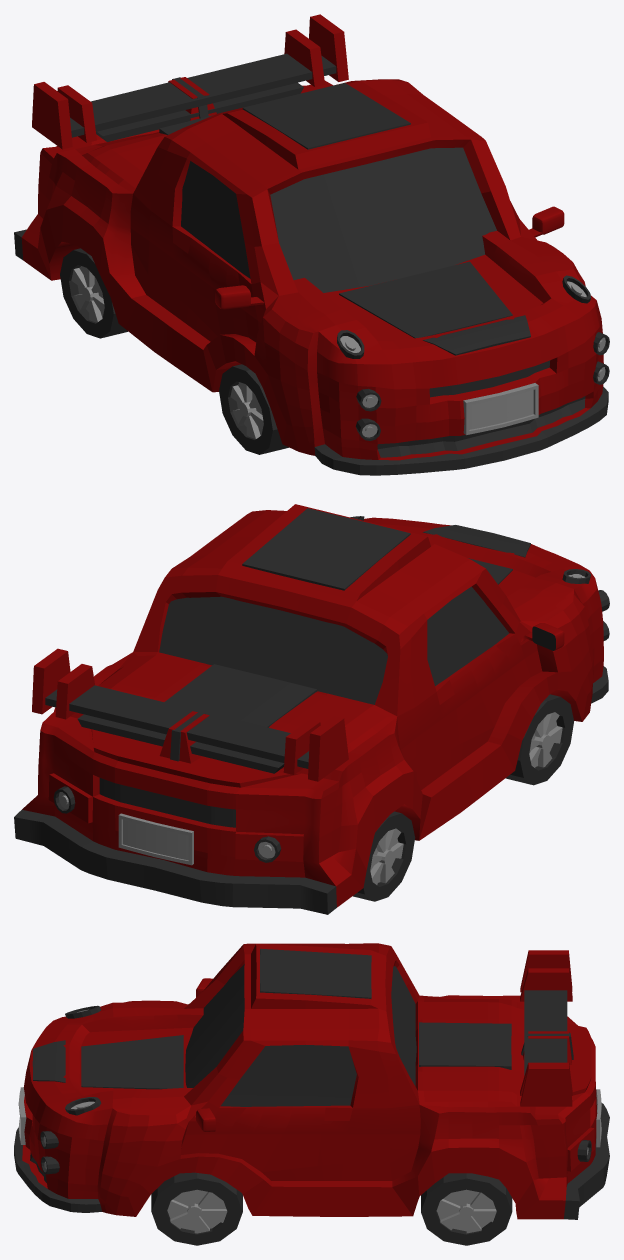
File: player_car 1.fbx
3 renders of one model, top to bottom at view 1: azimuth 30°, elevation 25°; view 2: azimuth 150°, elevation 25°; view 3: azimuth 270°, elevation 25°, orthographic. The views are drawn at different scales.
Visible parts, largest first — view 1: car_base, glass_front, pCube7, pCube1, pCube9, pPipe5 (×2), glass_right, pCube2, front_plate, pCube3, pCube6, H (+5 smaller); view 2: car_base, glass_behind, pCube9, pCube1, pCube10, pPipe5 (×2), glass_right, pCube2, back_plate, pCube6, pCube3, pCylinder12 (×2) (+4 smaller); view 3: car_base, pPipe5 (×2), glass_right, pCube7, pCube9, pCube10, glass_front, pCylinder12 (×2), pCube1, pCube2, glass_behind, pCube3 (+3 smaller).
Boxes of the visible parts, left/top/right/bottom form: car_base: left=14, top=79, right=608, bottom=475; glass_front: left=270, top=147, right=496, bottom=292; pCube7: left=339, top=261, right=512, bottom=338; pCube1: left=70, top=53, right=336, bottom=137; pCube9: left=242, top=83, right=410, bottom=149; pPipe5 (×2): left=60, top=248, right=288, bottom=454; glass_right: left=181, top=161, right=250, bottom=278; pCube2: left=32, top=14, right=348, bottom=149; front_plate: left=463, top=383, right=538, bottom=435; pCube3: left=57, top=29, right=324, bottom=142; pCube6: left=96, top=82, right=303, bottom=141; H: left=423, top=315, right=530, bottom=355; car_base: left=14, top=504, right=608, bottom=914; glass_behind: left=159, top=596, right=387, bottom=704; pCube9: left=242, top=508, right=410, bottom=590; pCube1: left=45, top=685, right=308, bottom=768; pCube10: left=164, top=664, right=317, bottom=727; pPipe5 (×2): left=353, top=694, right=573, bottom=901; glass_right: left=427, top=586, right=509, bottom=686; pCube2: left=32, top=648, right=348, bottom=781; back_plate: left=118, top=813, right=193, bottom=865; pCube6: left=77, top=714, right=284, bottom=773; pCube3: left=55, top=664, right=320, bottom=774; pCylinder12 (×2): left=370, top=712, right=562, bottom=884; car_base: left=14, top=943, right=609, bottom=1219; pPipe5 (×2): left=151, top=1172, right=512, bottom=1245; glass_right: left=221, top=1045, right=356, bottom=1106; pCube7: left=81, top=1035, right=183, bottom=1089; pCube9: left=260, top=948, right=371, bottom=998; pCube10: left=419, top=1022, right=511, bottom=1069; glass_front: left=185, top=964, right=244, bottom=1087; pCylinder12 (×2): left=167, top=1189, right=496, bottom=1233; pCube1: left=524, top=980, right=567, bottom=1075; pCube2: left=520, top=950, right=572, bottom=1106; glass_behind: left=391, top=966, right=416, bottom=1086; pCube3: left=520, top=968, right=572, bottom=1095.
Size of the model in its own units: 157 by 109 by 277.
